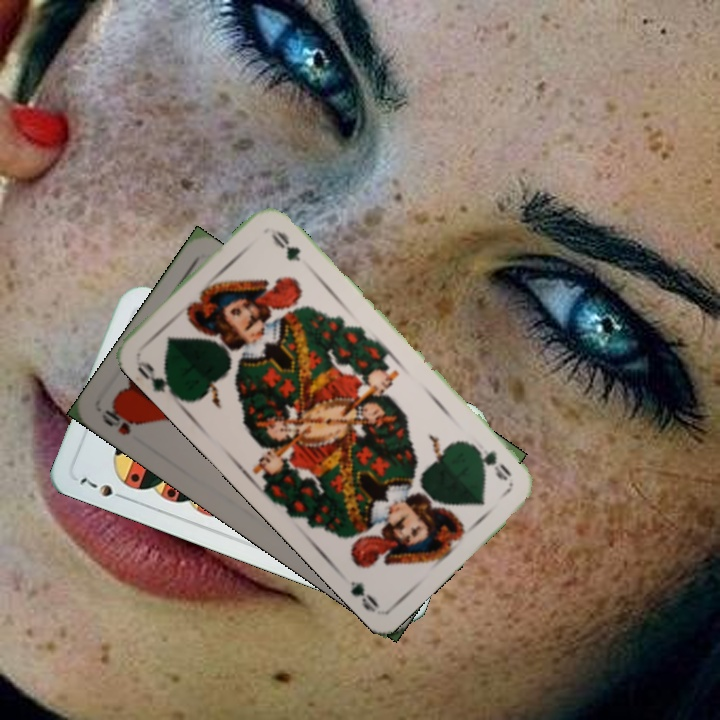GO: (132, 357, 181, 401), (467, 439, 515, 483)
HO: (97, 403, 141, 438)
S7: (75, 473, 130, 502)
